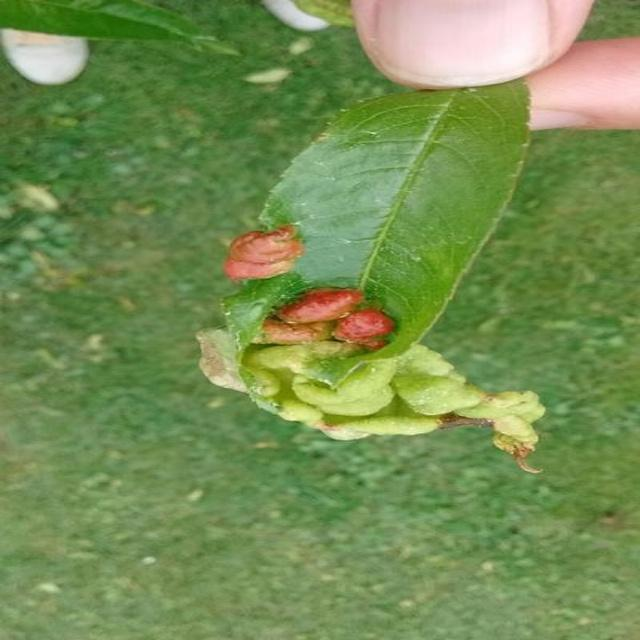leaf_curl: (147, 238, 569, 499)
